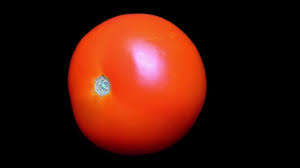tomato: (68, 13, 206, 155)
